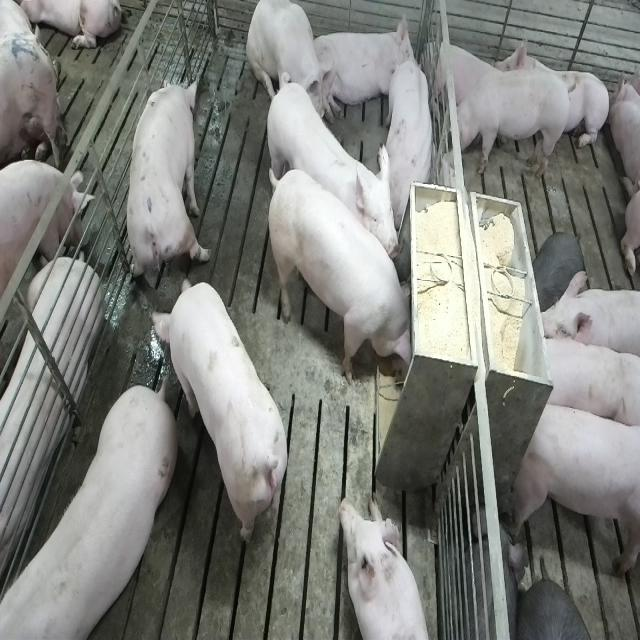Feeding: (271, 165, 421, 390)
Lateral_lying: (0, 153, 100, 588), (314, 12, 418, 126)
Sitting: (246, 1, 333, 133), (381, 49, 438, 225)
Standing: (0, 381, 173, 640), (152, 282, 294, 552), (509, 396, 638, 583), (123, 74, 209, 296), (264, 76, 372, 252), (446, 67, 575, 178), (532, 329, 637, 431), (536, 270, 640, 368)
Sternal_lying: (494, 30, 608, 157), (338, 493, 434, 640), (427, 35, 499, 117)
